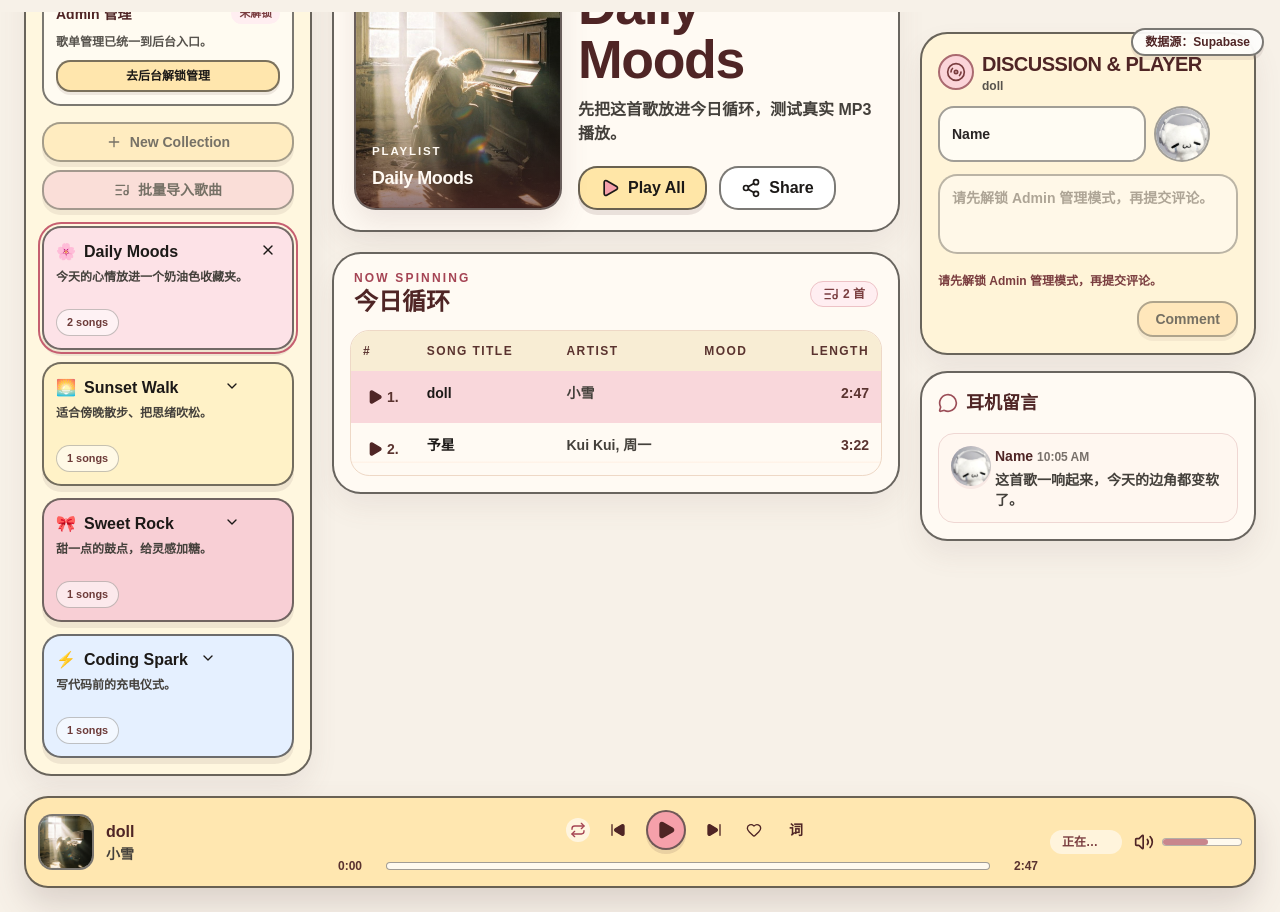
it: PlaylistsPageView › switches collections and updates the main content together
(page scrolled)
What coordinates should you click on to do the following:
click the button "⚡️ Coding Spark 写代码前的充电仪式。 1 songs"
I would click on:
 (168, 696)
Its box is [56,648,280,744].
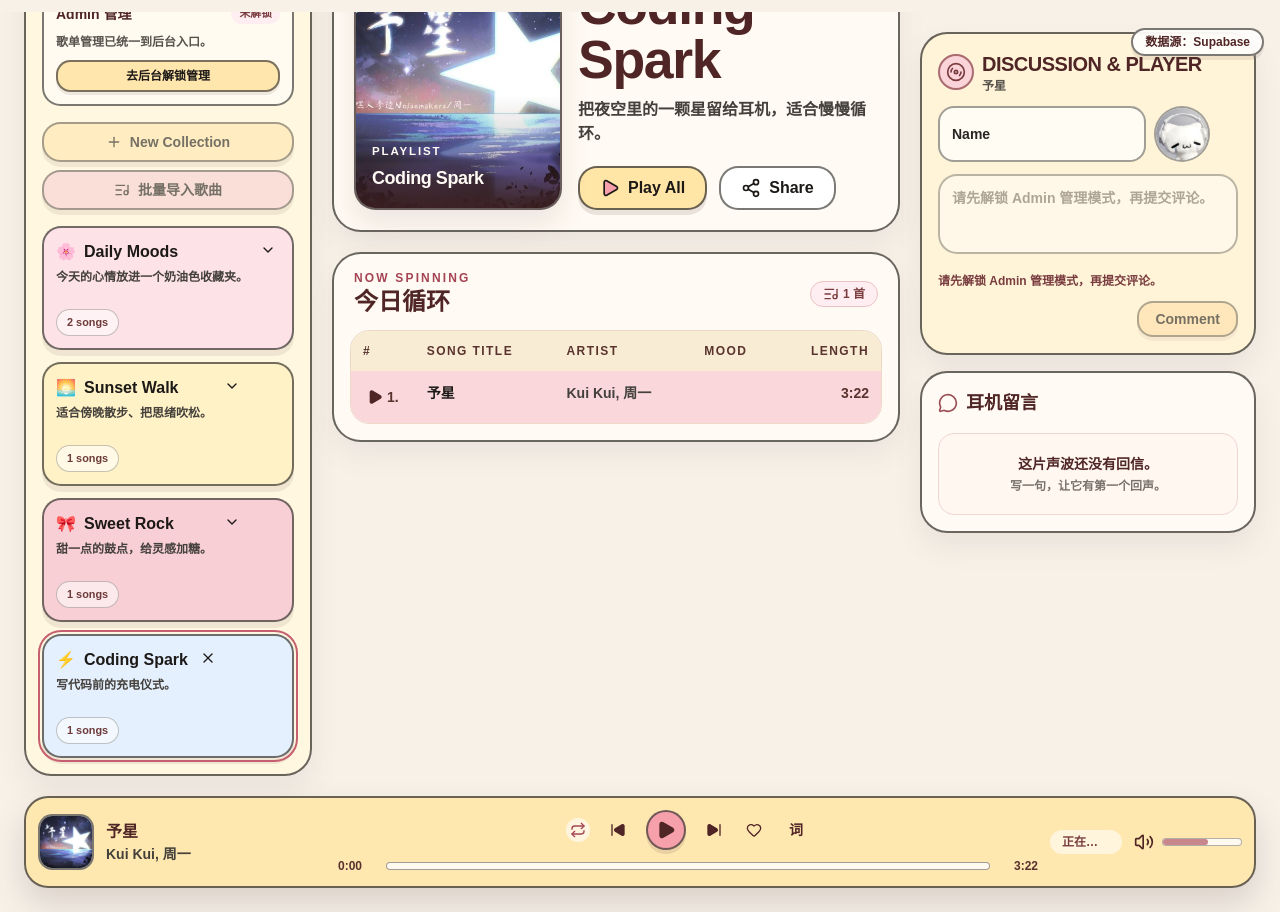
Expected: the 1st heading "Coding Spark" is shown, [578,12,754,89]
Expected: the text "把夜空里的一颗星留给耳机，适合慢慢循环。" is shown, [578,98,878,146]
Expected: the text "doll" is gone
